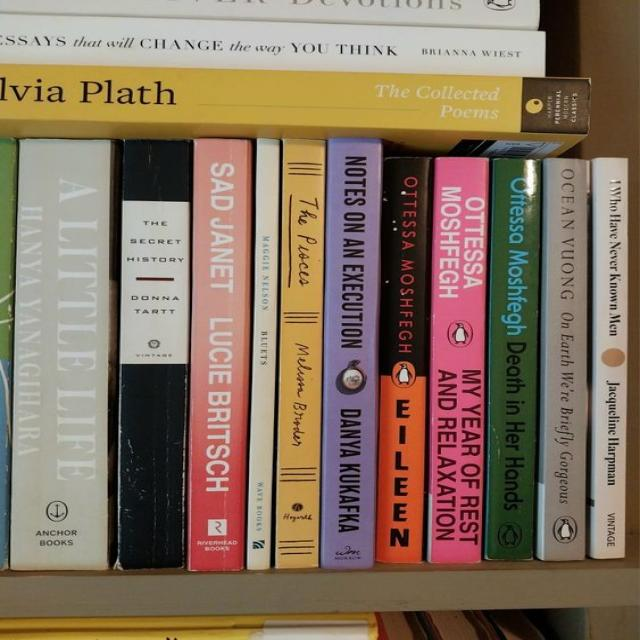book: (10, 138, 110, 569), (0, 65, 589, 133), (0, 14, 546, 78), (117, 138, 191, 569), (321, 140, 383, 569), (191, 138, 251, 571), (427, 156, 490, 562), (484, 158, 541, 561), (375, 156, 431, 563), (275, 138, 325, 566), (541, 159, 589, 560), (246, 139, 282, 569), (594, 158, 629, 557)
